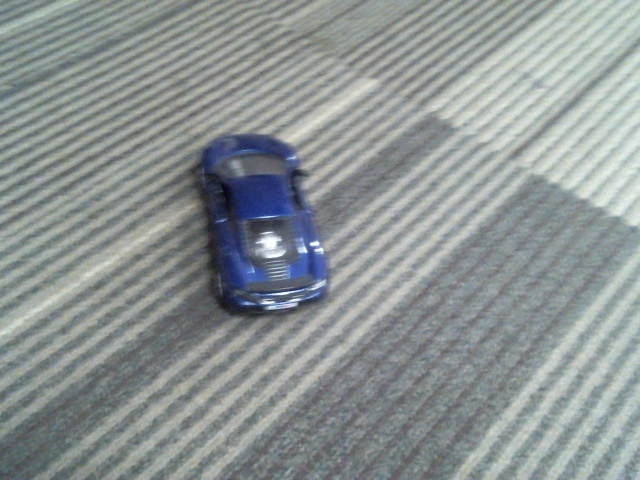car: (198, 131, 331, 317)
